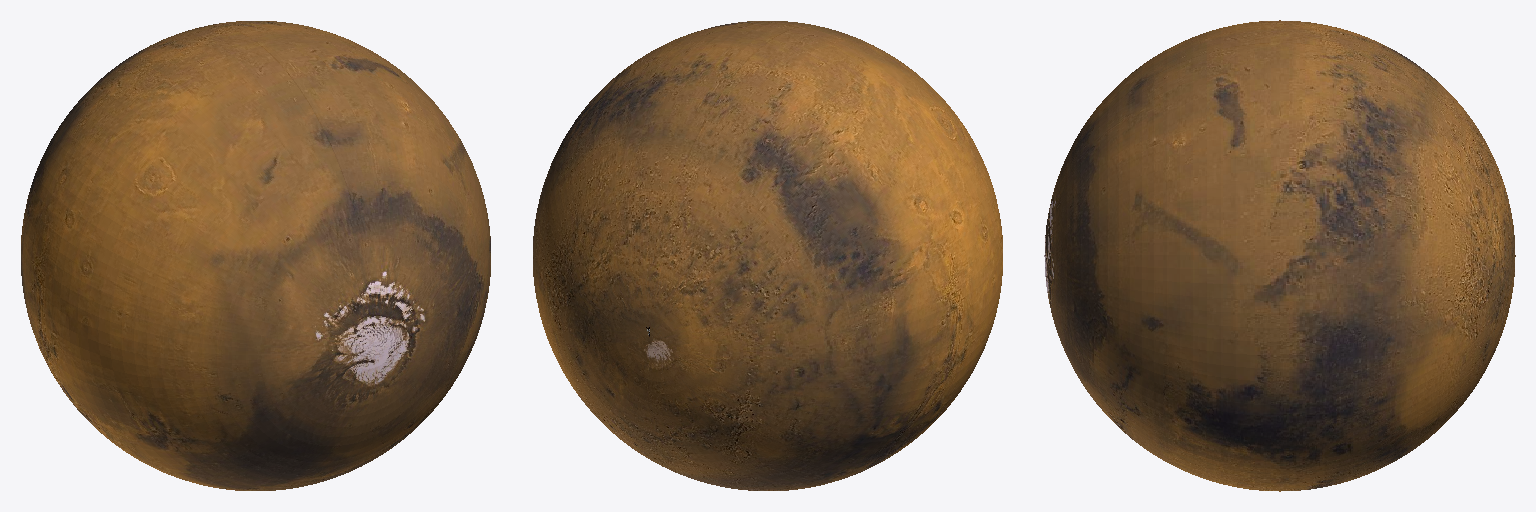
The picture shows the model from 3 angles: view 1: azimuth 30°, elevation 25°; view 2: azimuth 150°, elevation 25°; view 3: azimuth 270°, elevation 25°; orthographic projection.
Parts seen in each view (by area): view 1: Sphere001; view 2: Sphere001; view 3: Sphere001.
Part boxes in pixels (bbox=[...]): Sphere001: bbox=[21, 21, 490, 490]; Sphere001: bbox=[533, 21, 1002, 490]; Sphere001: bbox=[1044, 20, 1515, 491].
Size of the model in its own units: 30 by 30 by 30.
1 materials, 1 textured.